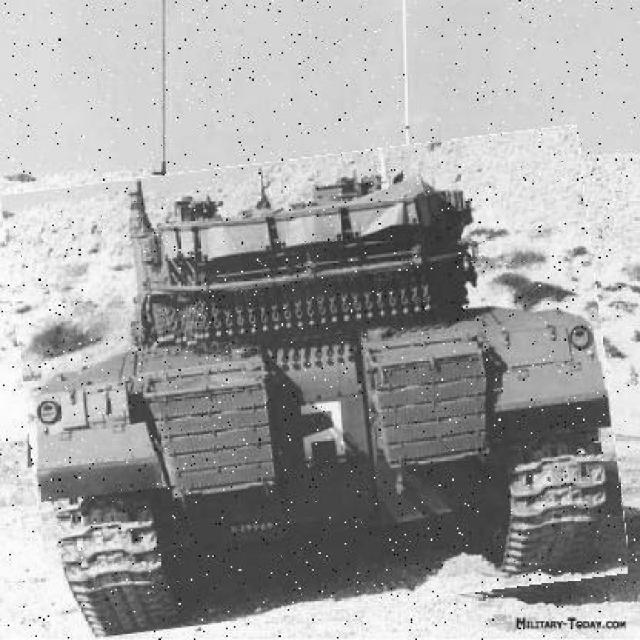Tank: (13, 143, 618, 627)
